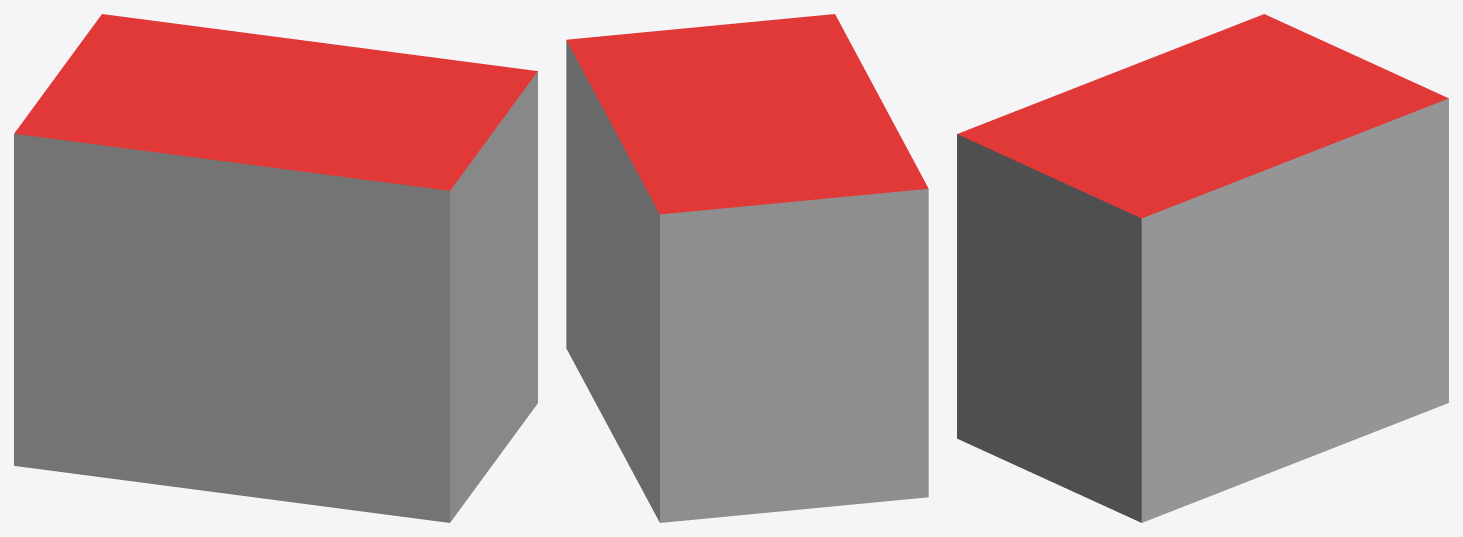
The model's file is ID_5447b819-f441-4fab-9b81-025466d44489.dae.
3 views of the same model, side by side, from view 1: azimuth 30°, elevation 25°; view 2: azimuth 150°, elevation 25°; view 3: azimuth 270°, elevation 25° (orthographic). The views are drawn at different scales.
Bounding box in the file's own units: 23.12 × 23.51 × 16.06.
